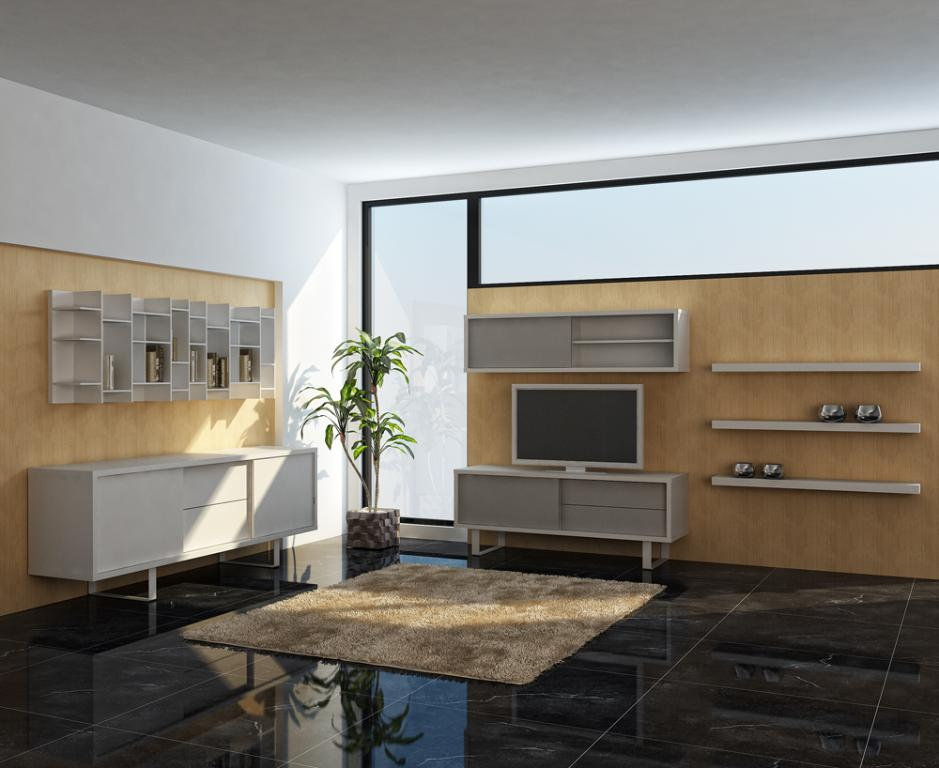cabinet door: (95, 481, 184, 554), (475, 321, 568, 370), (461, 479, 554, 528), (255, 461, 313, 527), (568, 509, 658, 538), (571, 340, 662, 368), (563, 489, 660, 513), (184, 509, 249, 538), (575, 318, 668, 335), (184, 473, 245, 493)
